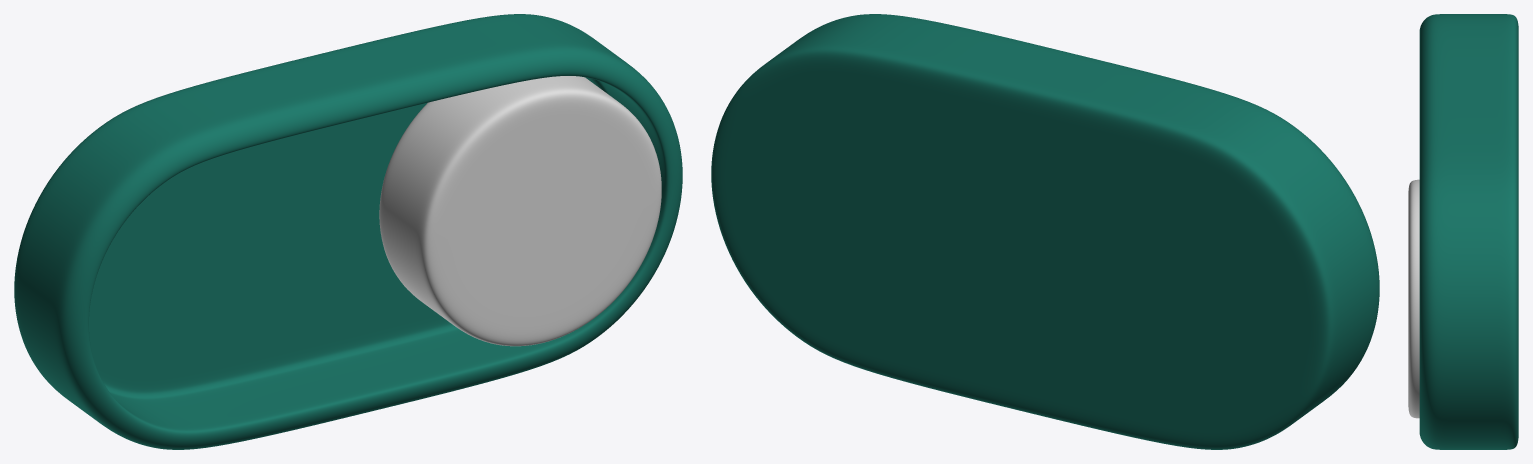
File: icon.fbx
3 renders of one model, left to right at view 1: azimuth 30°, elevation 25°; view 2: azimuth 150°, elevation 25°; view 3: azimuth 270°, elevation 25°, orthographic. The views are drawn at different scales.
Parts seen in each view (by area): view 1: Circle.019; view 2: Circle.019; view 3: Circle.019.
Part boxes in pixels (x1,y1,x2,y2): Circle.019: (14, 14, 682, 449); Circle.019: (711, 14, 1379, 449); Circle.019: (1408, 14, 1518, 449).
Bounding box in the file's own units: 196 × 98.2 × 35.06.
